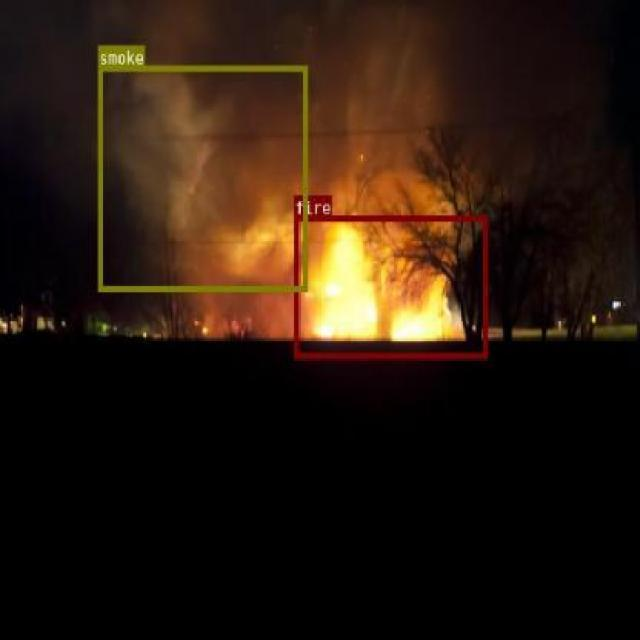CIV_Plane: (293, 215, 487, 358)
Fire: (293, 215, 487, 358)
Smoke: (101, 1, 304, 226)
